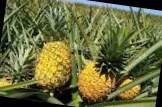Pineapple: (78, 19, 134, 102), (35, 6, 73, 88)
